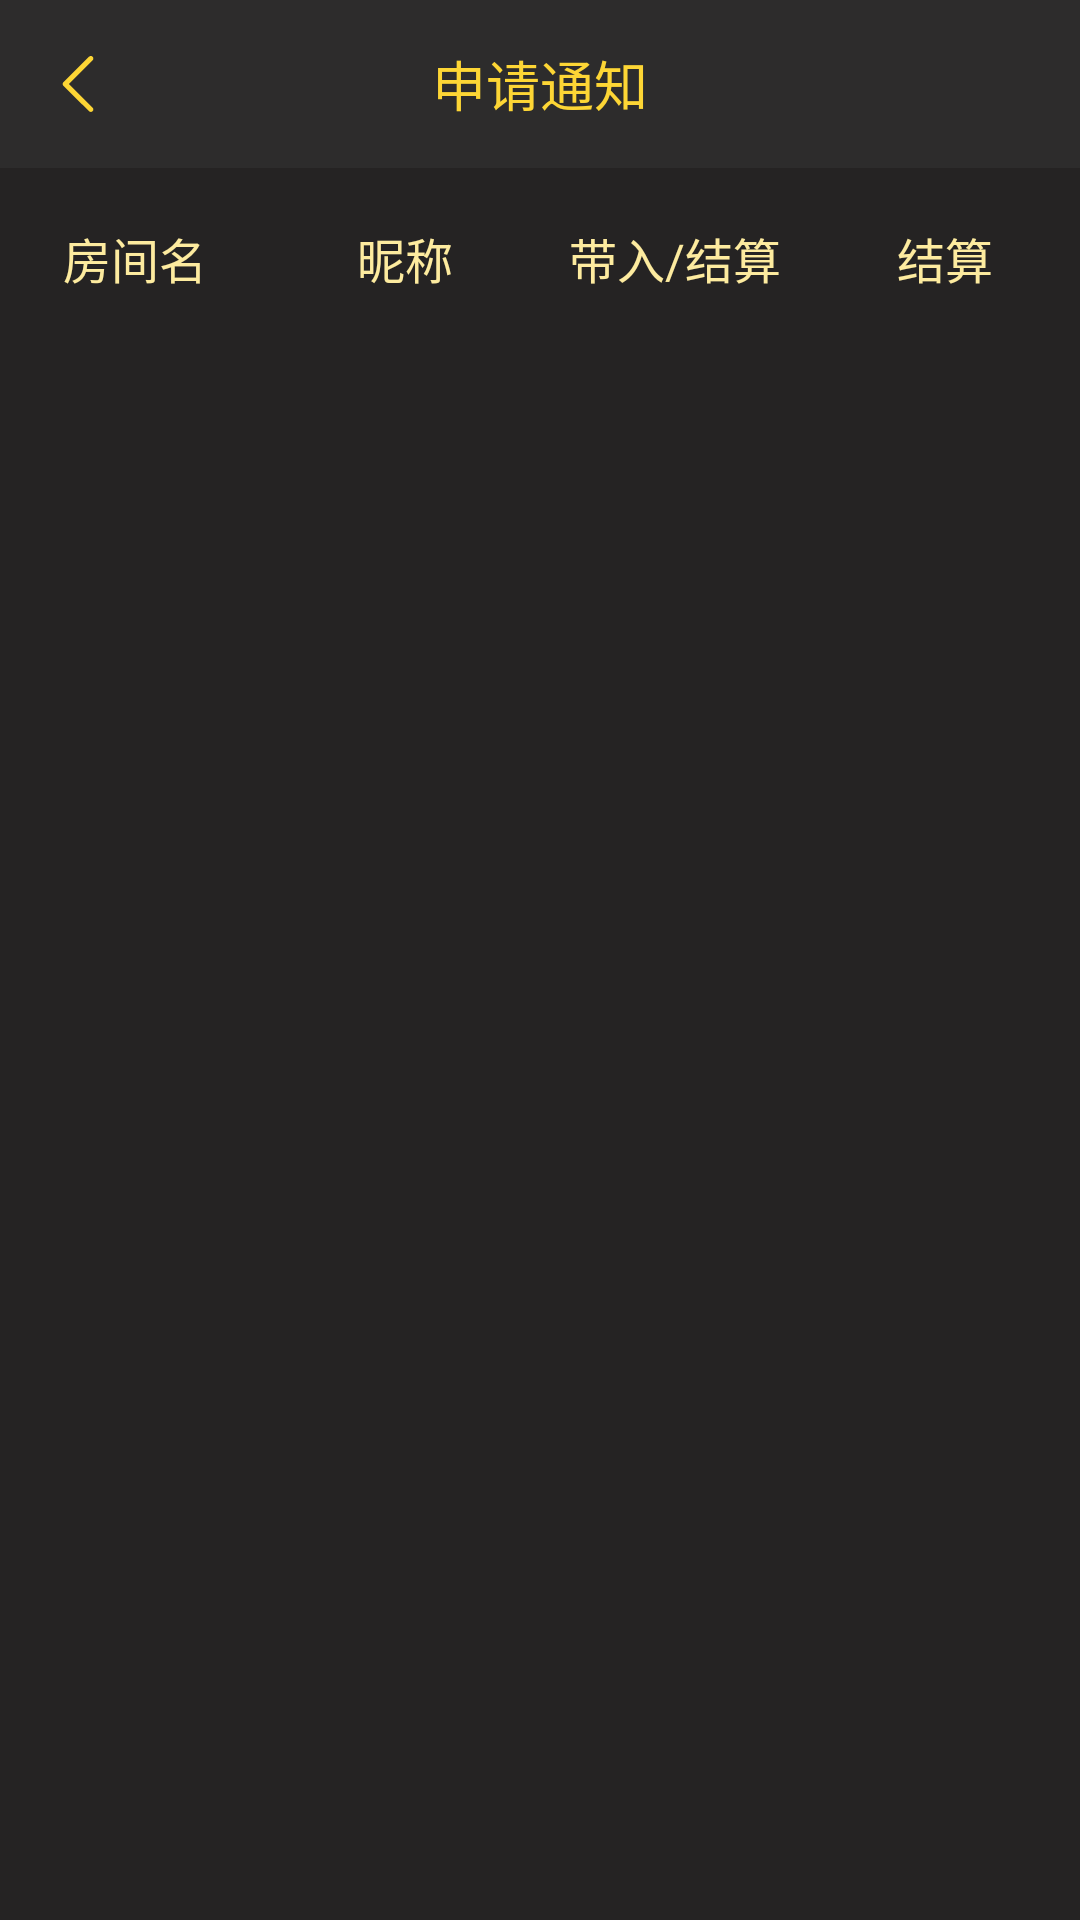

Icon click points for this 1080×1920 phone screenshot, format (x,y):
socket icom back: (78,84)
